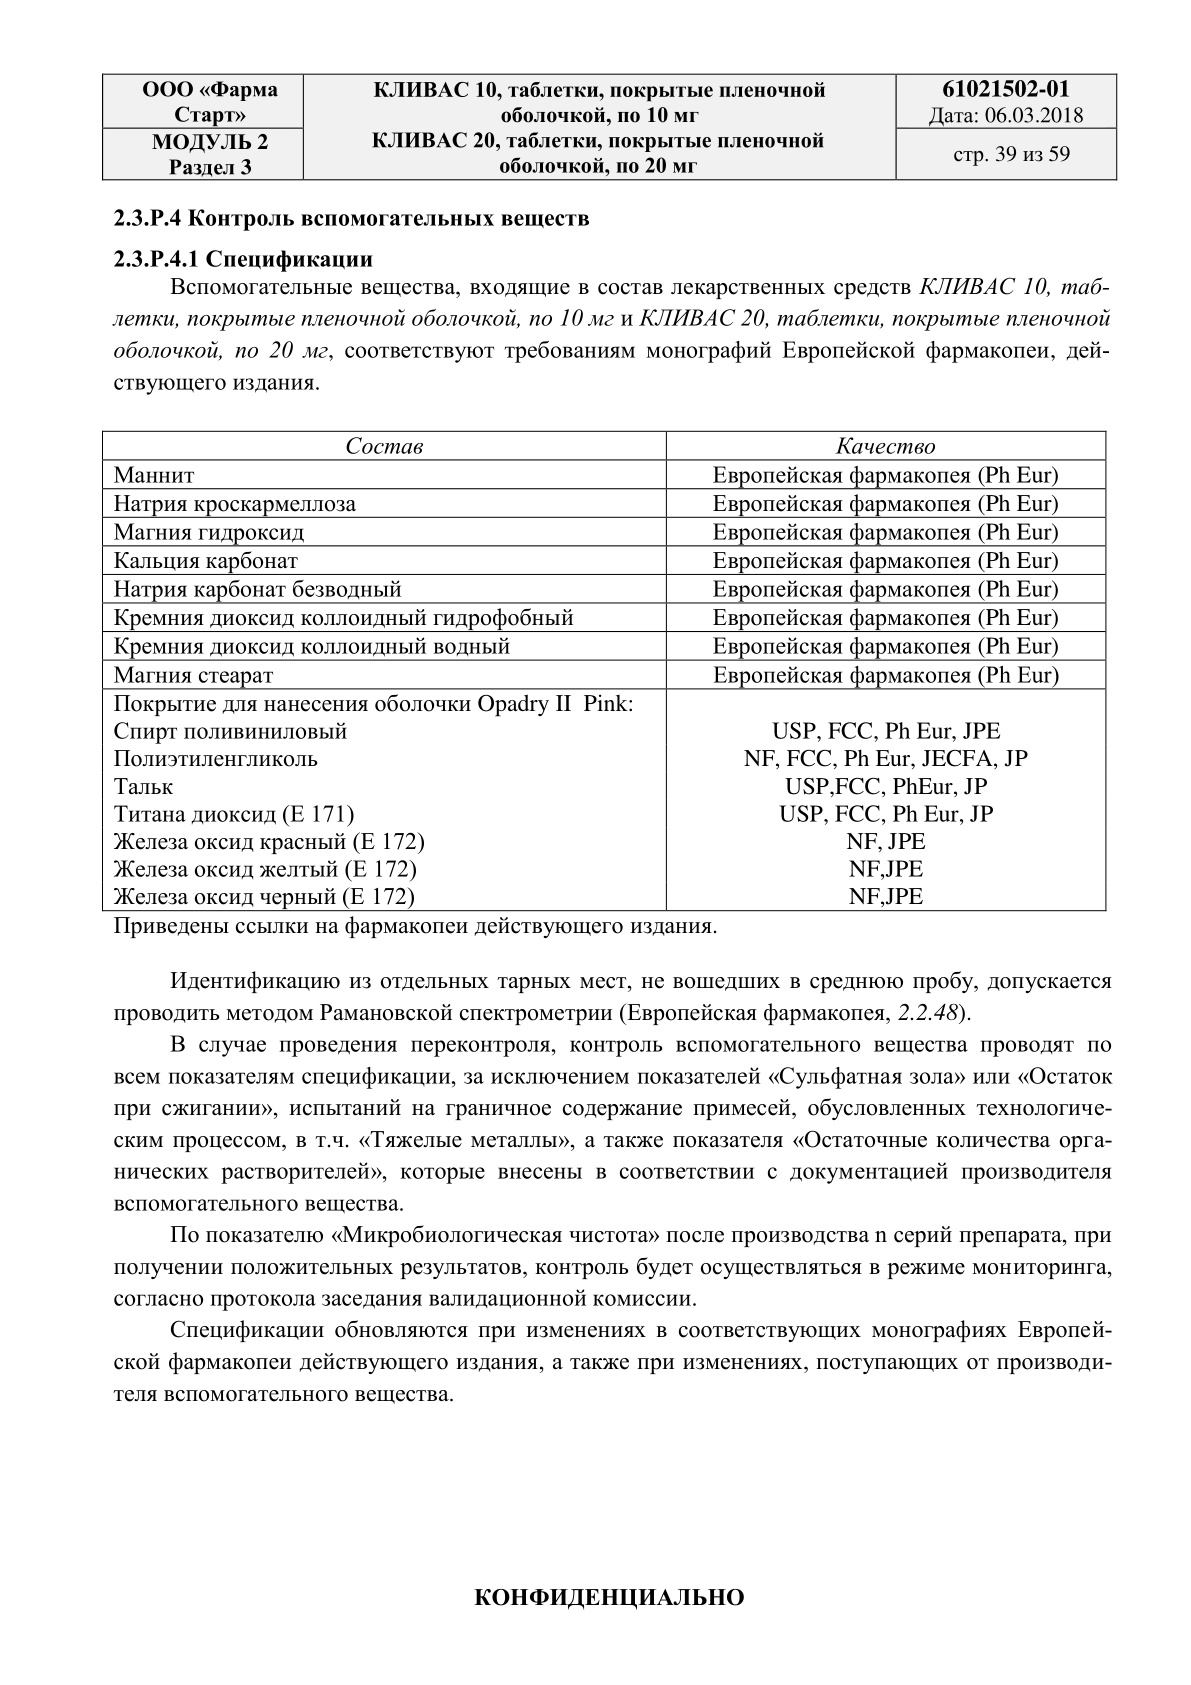merged_cells: (99, 429, 1107, 911), (99, 72, 1118, 183)
